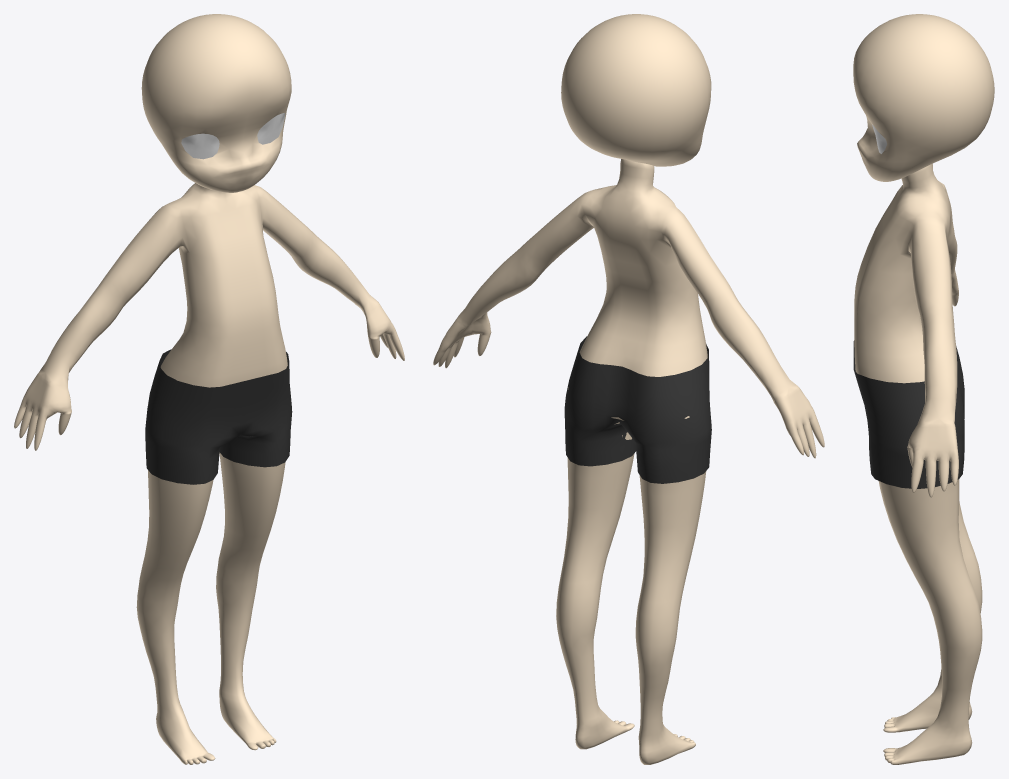
File: chibi_anime.glb
The picture shows the model from 3 angles, left to right: view 1: azimuth 30°, elevation 25°; view 2: azimuth 150°, elevation 25°; view 3: azimuth 270°, elevation 25°; orthographic projection.
Visible parts, largest first — view 1: Cuerpo, Cuerpo.001; view 2: Cuerpo, Cuerpo.001; view 3: Cuerpo, Cuerpo.001.
Part boxes in pixels (bbox=[...]): Cuerpo: bbox=[14, 14, 404, 764]; Cuerpo.001: bbox=[145, 349, 292, 484]; Cuerpo: bbox=[433, 14, 824, 764]; Cuerpo.001: bbox=[564, 336, 711, 483]; Cuerpo: bbox=[853, 14, 994, 764]; Cuerpo.001: bbox=[853, 340, 964, 488].
Size of the model in its own units: 8.84 by 16.54 by 2.93.
